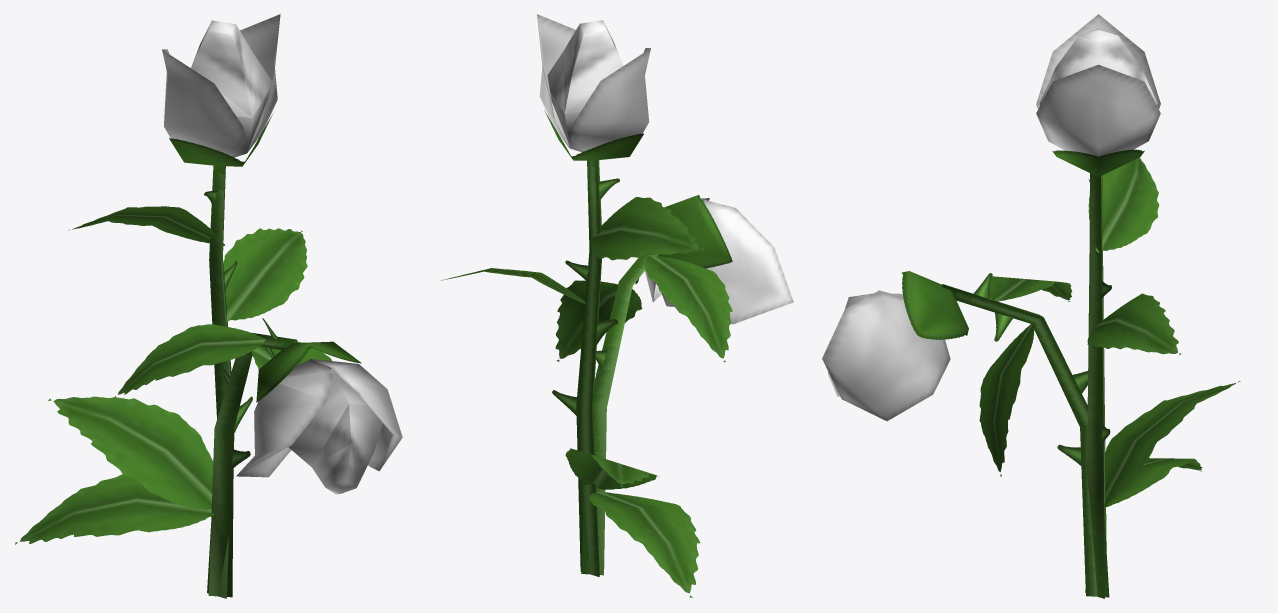
Rendered from rose.glb.
3 views of the same model, side by side, from view 1: azimuth 30°, elevation 25°; view 2: azimuth 150°, elevation 25°; view 3: azimuth 270°, elevation 25° (orthographic). The views are drawn at different scales.
Visible parts, largest first — view 1: desat_petals_wilt, desat_petals_bloom, leaf1_bloom, leaf1_wilt, leaf2_bloom, stem_wilt, leaf3_wilt, stem_bloom, leaf3_bloom, bulb_wilt, bulb_bloom, leaf2_wilt; view 2: desat_petals_bloom, desat_petals_wilt, stem_bloom, leaf1_wilt, leaf3_wilt, leaf3_bloom, stem_wilt, leaf2_wilt, bulb_wilt, leaf1_bloom, bulb_bloom, leaf2_bloom; view 3: desat_petals_bloom, desat_petals_wilt, stem_bloom, stem_wilt, leaf1_bloom, leaf3_bloom, leaf2_wilt, leaf2_bloom, bulb_wilt, leaf1_wilt, leaf3_wilt, bulb_bloom.
Boxes of the visible parts, x1=… form: desat_petals_wilt: x1=236, y1=358, x2=402, y2=494; desat_petals_bloom: x1=162, y1=14, x2=280, y2=157; leaf1_bloom: x1=48, y1=396, x2=213, y2=509; leaf1_wilt: x1=15, y1=474, x2=214, y2=544; leaf2_bloom: x1=223, y1=228, x2=307, y2=322; stem_wilt: x1=208, y1=332, x2=297, y2=597; leaf3_wilt: x1=114, y1=324, x2=265, y2=398; stem_bloom: x1=207, y1=165, x2=234, y2=598; leaf3_bloom: x1=68, y1=206, x2=224, y2=245; bulb_wilt: x1=256, y1=341, x2=361, y2=402; bulb_bloom: x1=169, y1=114, x2=272, y2=166; leaf2_wilt: x1=251, y1=341, x2=331, y2=369; desat_petals_bloom: x1=537, y1=14, x2=650, y2=152; desat_petals_wilt: x1=645, y1=198, x2=793, y2=324; stem_bloom: x1=576, y1=160, x2=601, y2=576; leaf1_wilt: x1=589, y1=492, x2=700, y2=597; leaf3_wilt: x1=644, y1=255, x2=732, y2=362; leaf3_bloom: x1=591, y1=197, x2=703, y2=260; stem_wilt: x1=581, y1=221, x2=683, y2=575; leaf2_wilt: x1=555, y1=280, x2=642, y2=361; bulb_wilt: x1=657, y1=195, x2=732, y2=268; leaf1_bloom: x1=565, y1=448, x2=658, y2=489; bulb_bloom: x1=544, y1=110, x2=643, y2=160; leaf2_bloom: x1=441, y1=268, x2=587, y2=303; desat_petals_bloom: x1=1036, y1=14, x2=1160, y2=156; desat_petals_wilt: x1=822, y1=290, x2=950, y2=421; stem_bloom: x1=1085, y1=173, x2=1106, y2=598; stem_wilt: x1=942, y1=284, x2=1109, y2=597; leaf1_bloom: x1=1104, y1=381, x2=1240, y2=506; leaf3_bloom: x1=1088, y1=157, x2=1159, y2=252; leaf2_wilt: x1=979, y1=324, x2=1034, y2=476; leaf2_bloom: x1=1087, y1=293, x2=1181, y2=354; bulb_wilt: x1=902, y1=271, x2=968, y2=339; leaf1_wilt: x1=1106, y1=458, x2=1202, y2=507; leaf3_wilt: x1=990, y1=276, x2=1072, y2=301; bulb_bloom: x1=1052, y1=149, x2=1144, y2=177.
Bounding box in the file's own units: 0.8125 × 1.4 × 0.9927.
5 materials, 5 textured.
